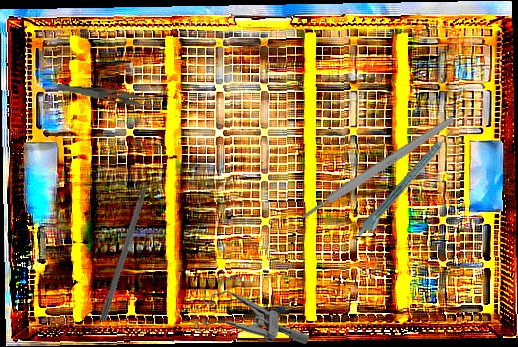Dressing Forceps: (55, 84, 165, 111)
Handpiece: (354, 125, 462, 243)
Pusher: (98, 162, 159, 323)
Scalpel Handle: (299, 114, 457, 222)
Speculum: (189, 288, 312, 345)
